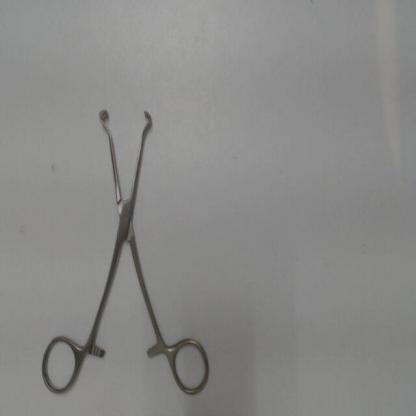Babcock Tissue Forceps: (38, 100, 221, 406)
